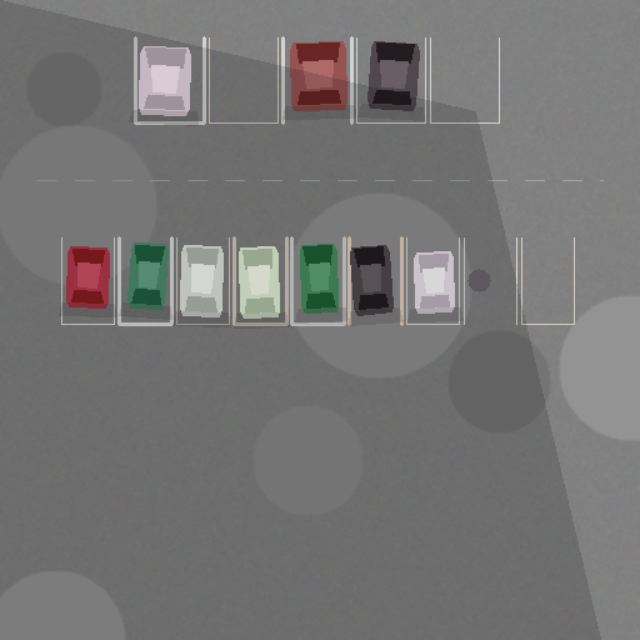space-empty: (209, 38, 278, 122), (430, 38, 499, 122), (521, 238, 574, 324), (464, 238, 516, 324)
space-occupied: (135, 38, 204, 122), (282, 38, 351, 122), (356, 38, 425, 122), (61, 238, 114, 324), (176, 238, 229, 324), (291, 238, 344, 324), (406, 238, 459, 324), (119, 238, 171, 324), (234, 238, 286, 324), (349, 238, 401, 324)
